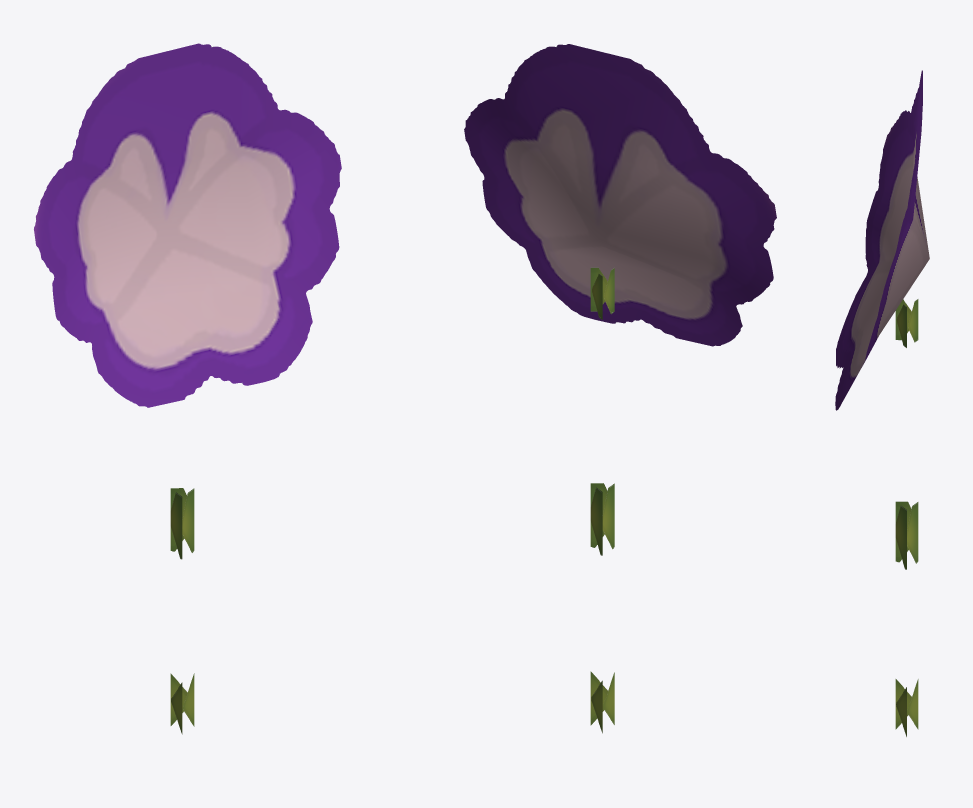
File: purpleFlower_1.fbx
3 views of the same model, side by side, from view 1: azimuth 30°, elevation 25°; view 2: azimuth 150°, elevation 25°; view 3: azimuth 270°, elevation 25° (orthographic). The views are drawn at different scales.
Visible parts, largest first — view 1: purpleFlower_1; view 2: purpleFlower_1; view 3: purpleFlower_1.
Part boxes in pixels (x1,y1,x2,y2): purpleFlower_1: (34, 43, 341, 734); purpleFlower_1: (464, 44, 776, 733); purpleFlower_1: (835, 70, 929, 736).
Size of the model in its own units: 0.437 by 0.8639 by 0.1449.
Materials: 1 (1 with a texture image).
